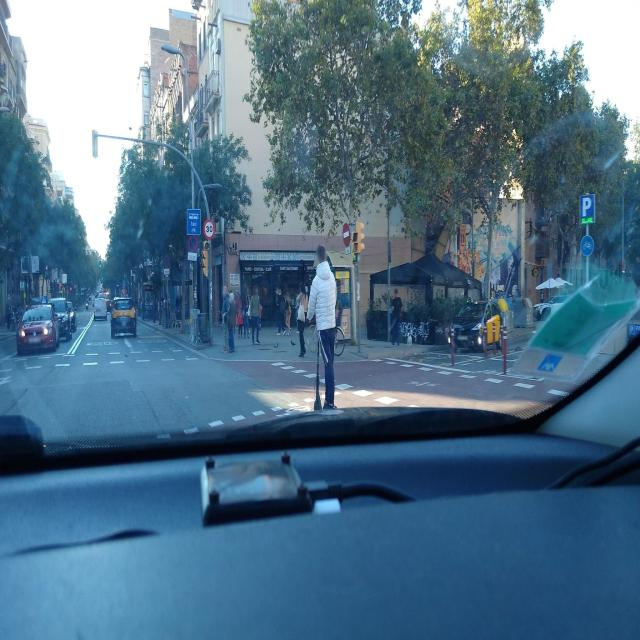forb_stopping: (188, 236, 198, 252)
